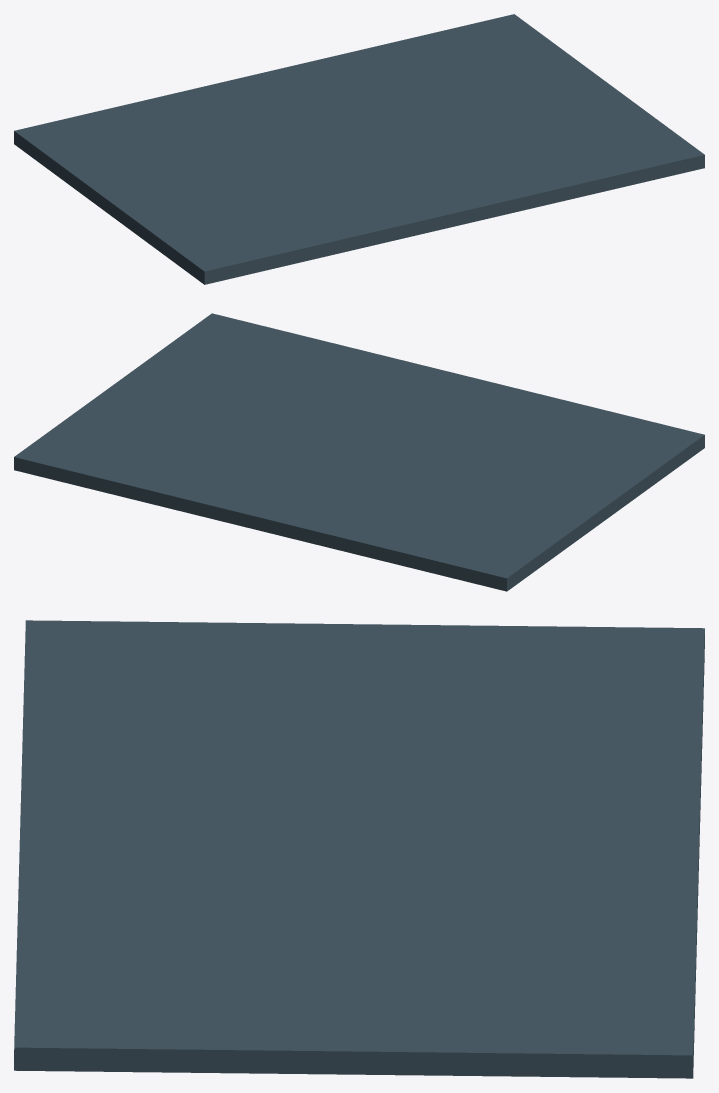
File: group336620870.065_lev3.glb
3 renders of one model, top to bottom at view 1: azimuth 30°, elevation 25°; view 2: azimuth 150°, elevation 25°; view 3: azimuth 270°, elevation 25°, orthographic. The views are drawn at different scales.
Visible parts, largest first — view 1: group336620870.065_lev3; view 2: group336620870.065_lev3; view 3: group336620870.065_lev3.
Part boxes in pixels (x1,y1,x2,y2): group336620870.065_lev3: (14,14,704,284); group336620870.065_lev3: (14,313,704,591); group336620870.065_lev3: (14,620,704,1078).
Size of the model in its own units: 4.96 by 0.1695 by 3.39.
